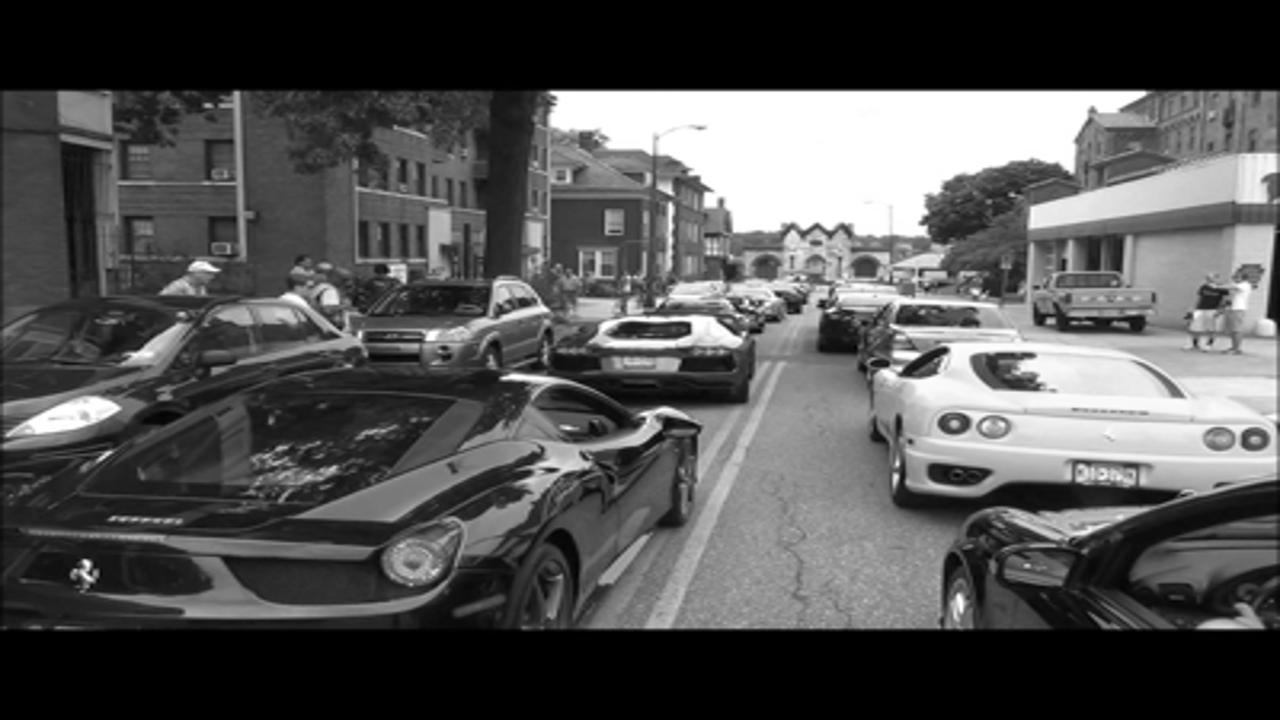license: (1067, 458, 1146, 488), (618, 350, 660, 370)
